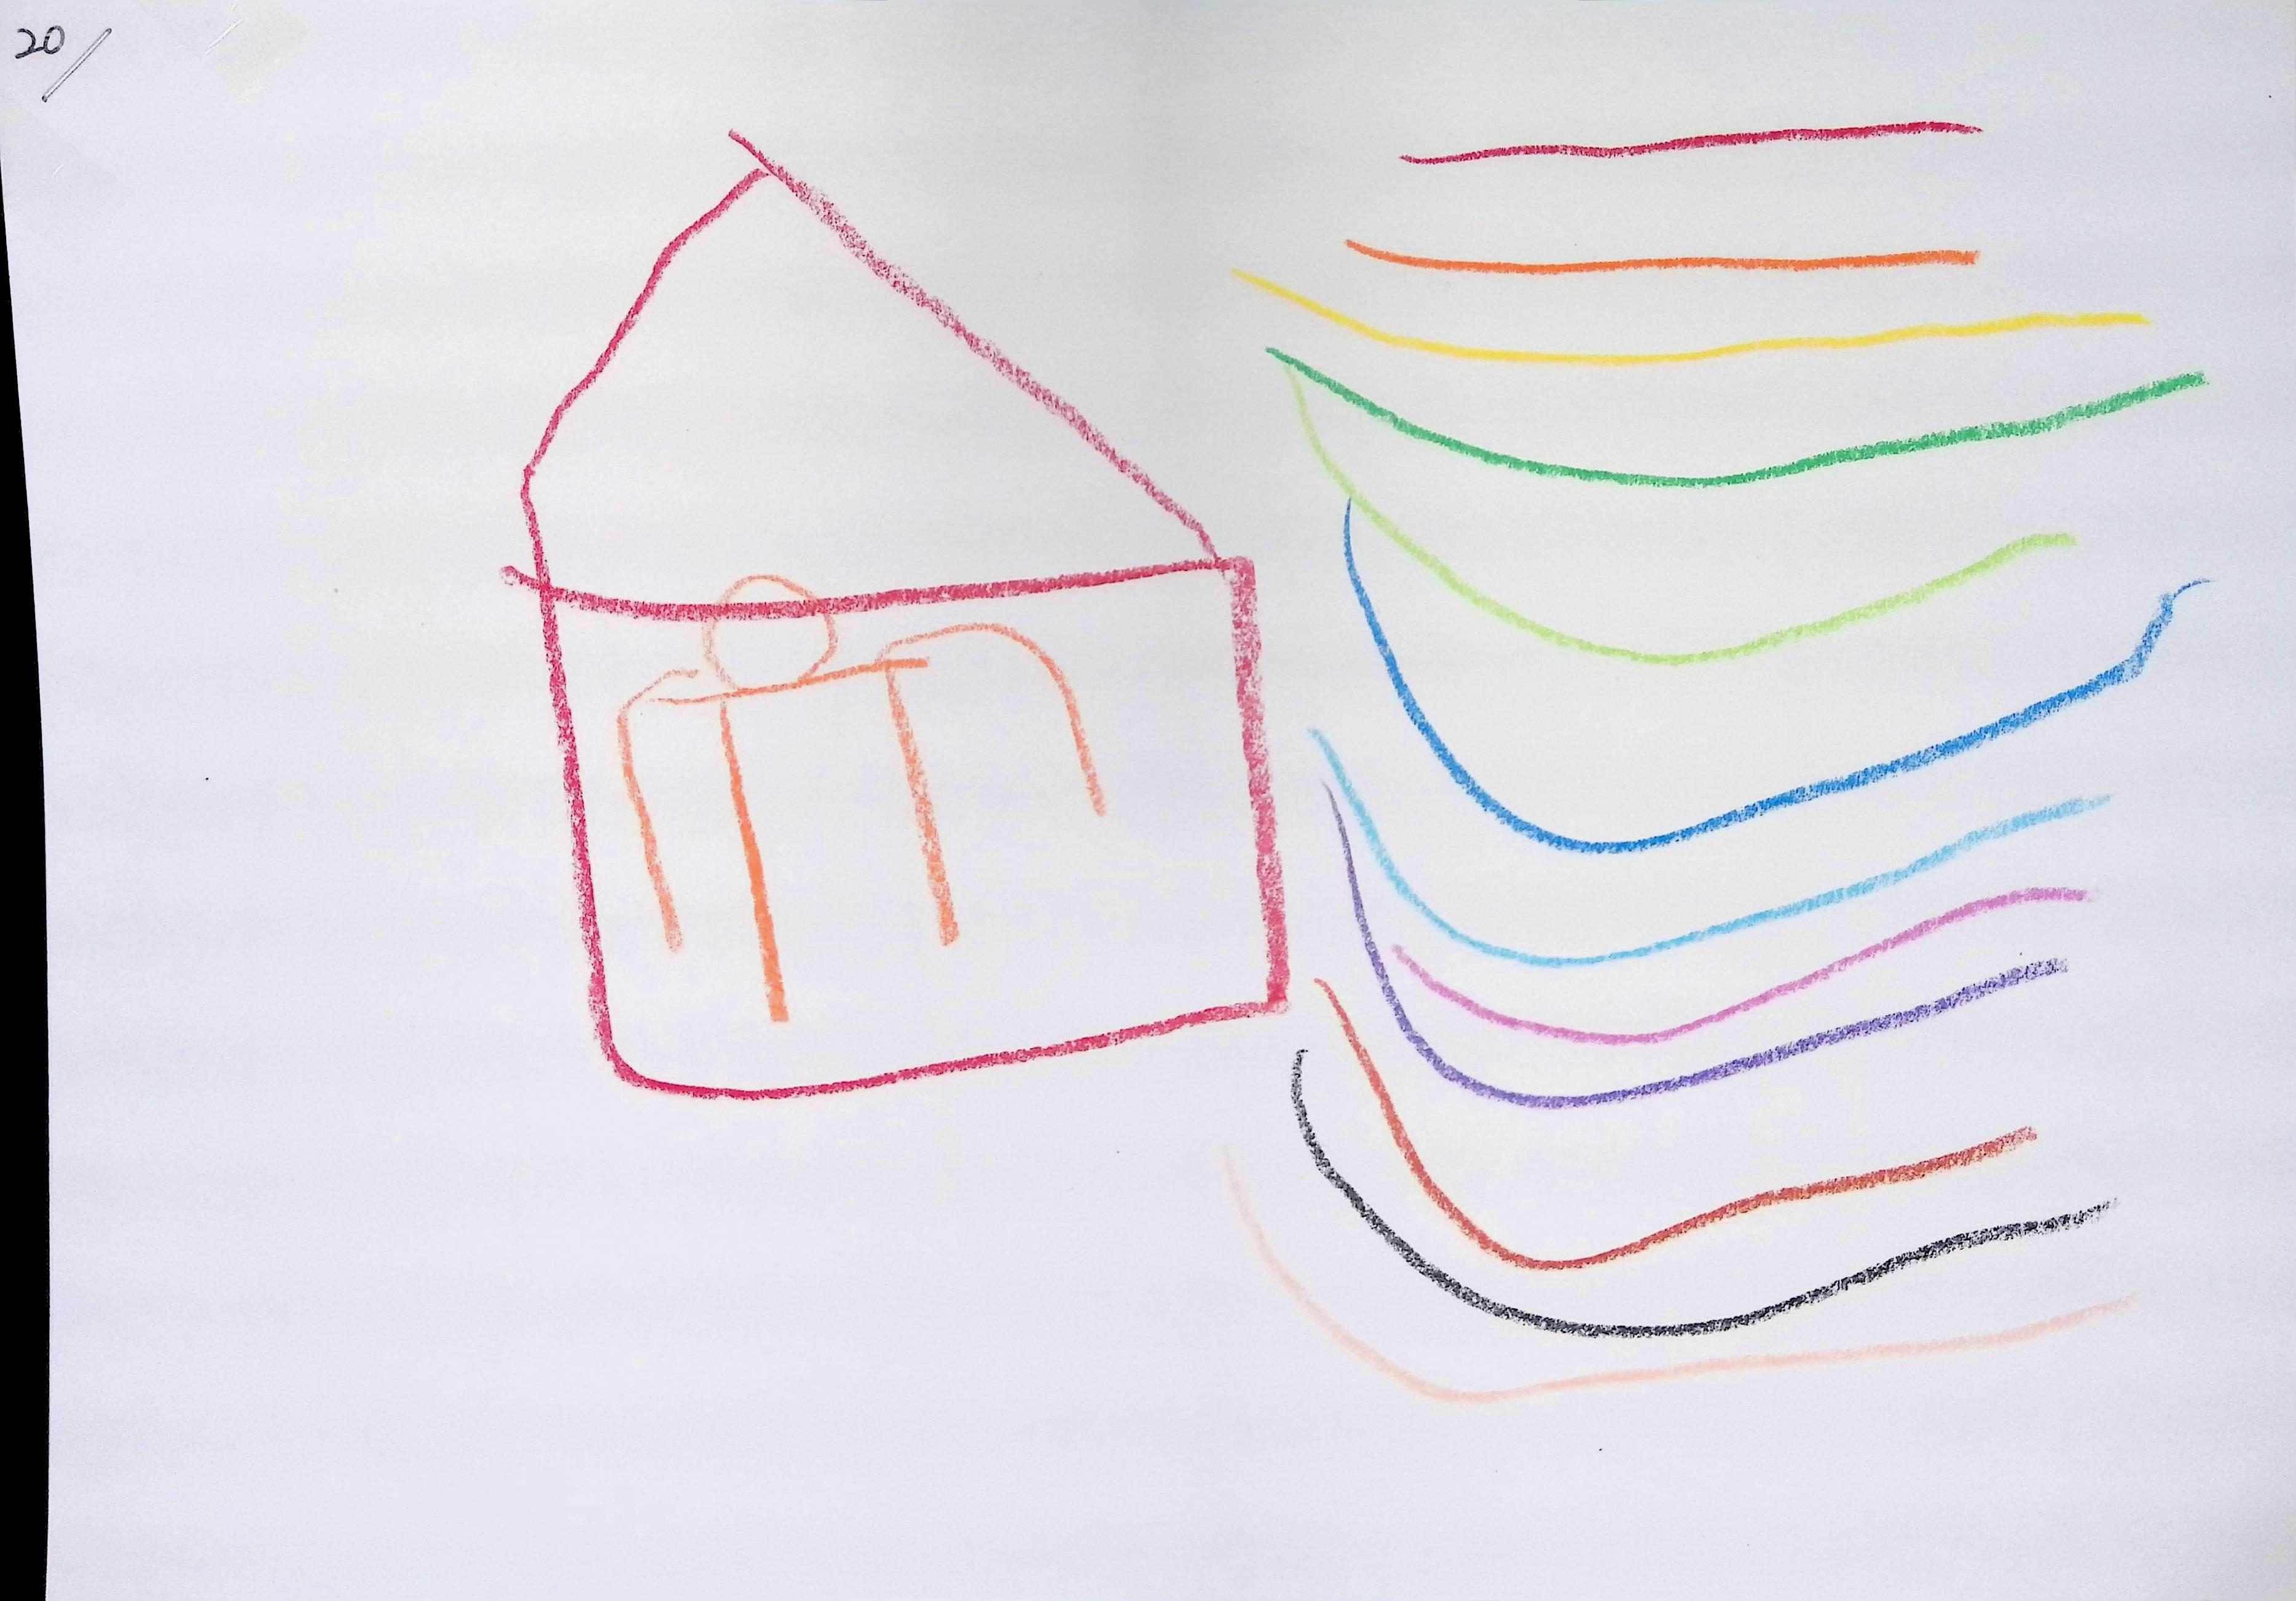house: (502, 133, 1288, 1097)
roof: (506, 136, 1247, 621)
